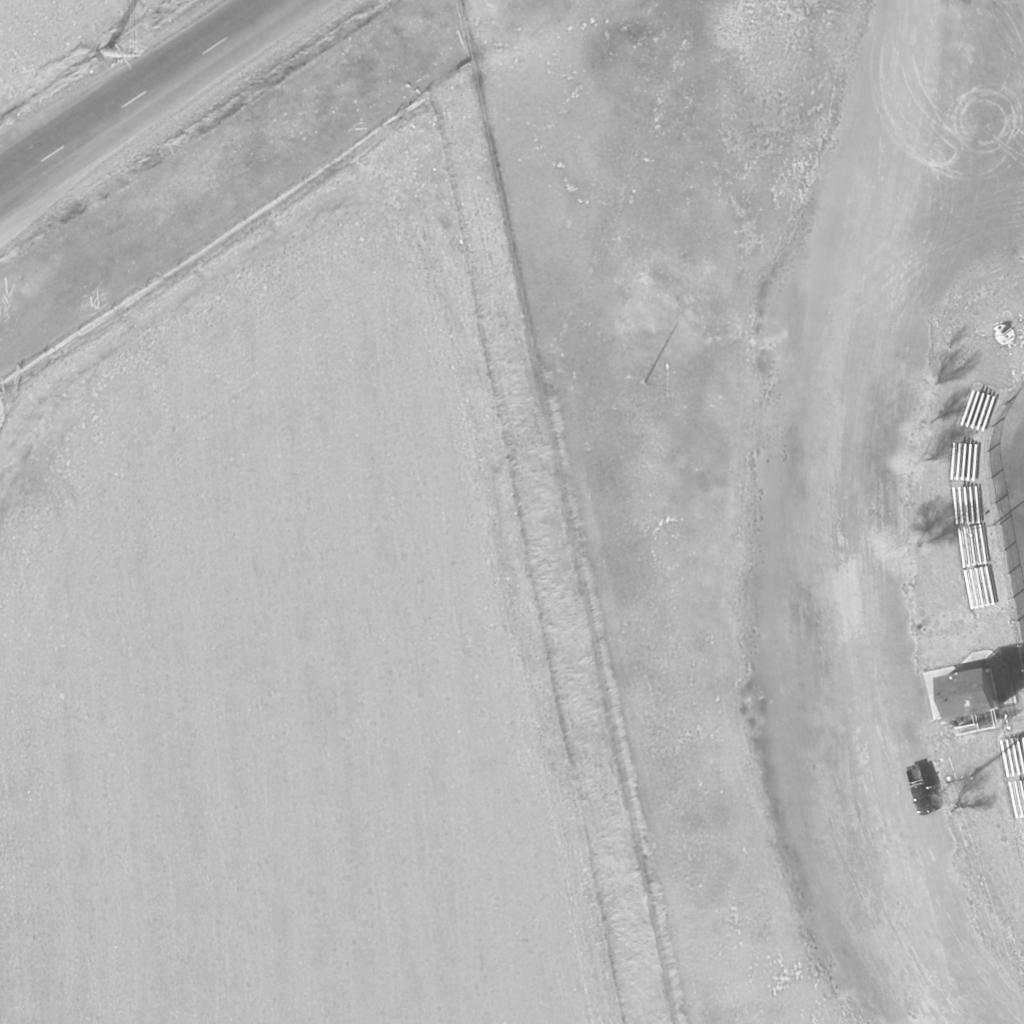vehicle: (903, 766, 935, 816)
